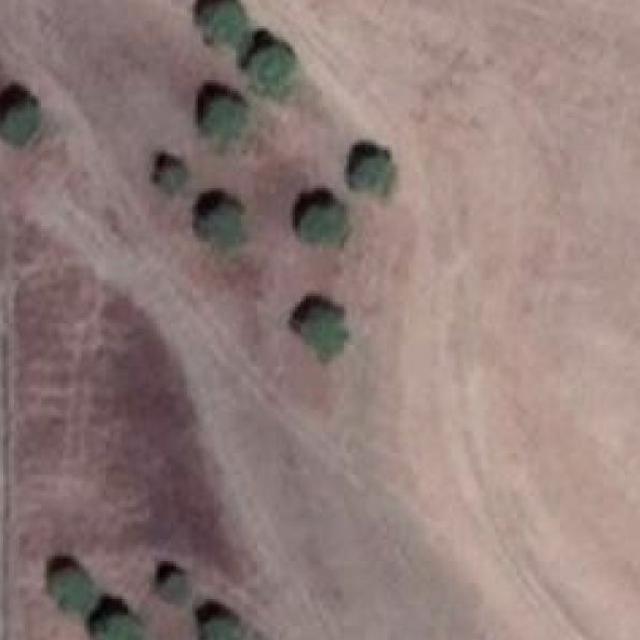Tree: (201, 98, 250, 150), (46, 567, 93, 615), (201, 0, 248, 48), (301, 307, 347, 354), (198, 205, 246, 248), (349, 152, 396, 194), (301, 201, 349, 242), (252, 48, 295, 88), (3, 107, 39, 145), (95, 615, 144, 640), (158, 572, 193, 604), (157, 164, 187, 200), (201, 617, 239, 640)
